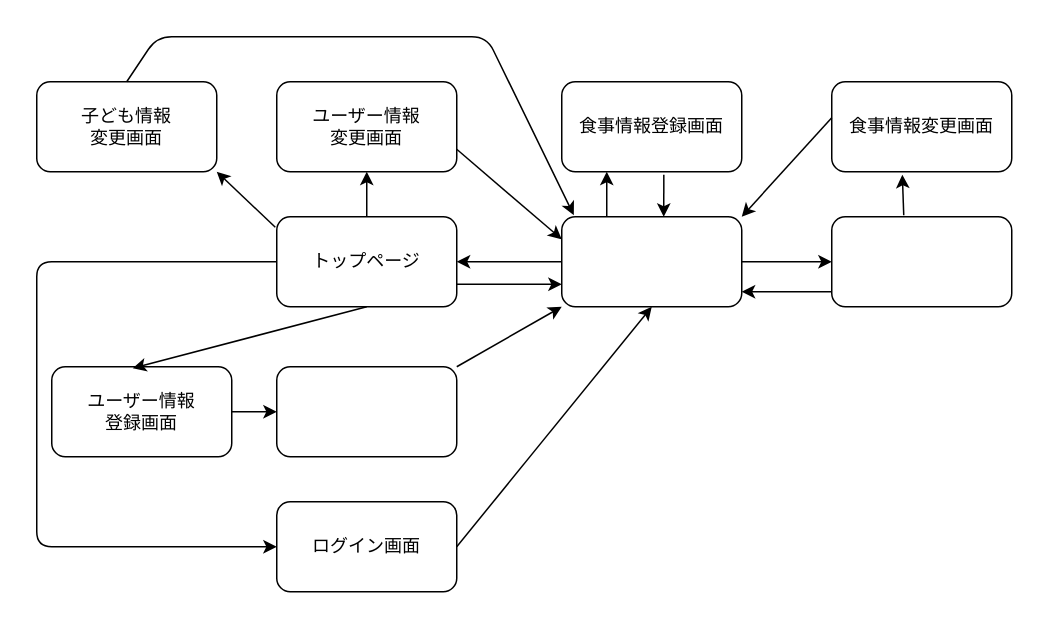
The diagram is 1038 pixels wide and 618 high, and some of its shapes have lost their labels. The centre of each missing label's shape, as x and y in pixels:
"子ども情報 登録画面" belongs at (366,411).
"食事情報詳細画面" belongs at (921,261).
"食事記録一覧画面" belongs at (651,261).
